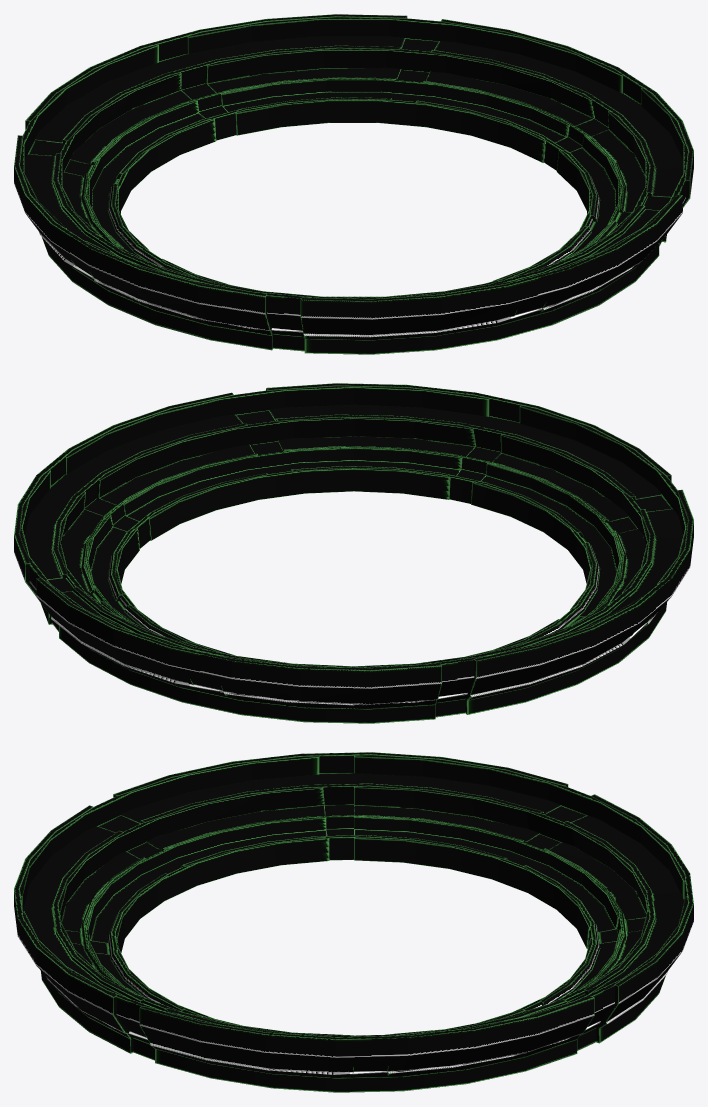
File: Arena.FBX
3 renders of one model, top to bottom at view 1: azimuth 30°, elevation 25°; view 2: azimuth 150°, elevation 25°; view 3: azimuth 270°, elevation 25°, orthographic.
Parts seen in each view (by area): view 1: Arena001, Arena; view 2: Arena001, Arena; view 3: Arena001, Arena.
Part boxes in pixels (x1,y1,x2,y2): Arena001: (14,14,693,354); Arena: (20,17,687,351); Arena001: (14,383,693,723); Arena: (20,386,687,717); Arena001: (14,752,693,1092); Arena: (20,755,687,1075).
Bounding box in the file's own units: 198 × 20.41 × 198.
